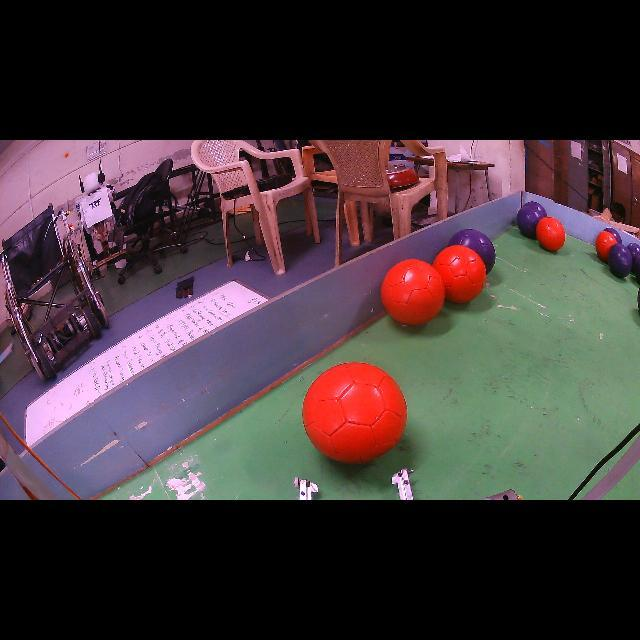P: (449, 229, 496, 272), (516, 201, 548, 239), (608, 244, 632, 278), (626, 242, 640, 262)
R: (302, 362, 408, 464), (381, 259, 445, 325), (432, 245, 486, 302), (536, 216, 565, 251), (595, 231, 618, 262)
